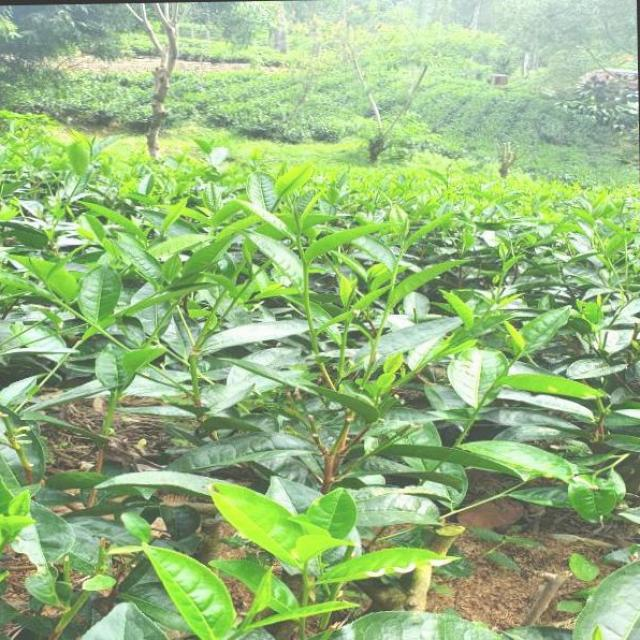Stem: (304, 585, 310, 592), (237, 630, 242, 635), (298, 230, 301, 237), (399, 253, 403, 258), (0, 551, 1, 556)
